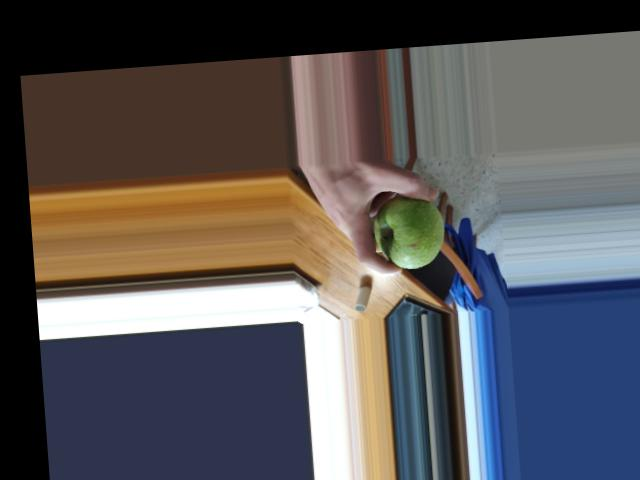apple: (370, 191, 448, 274)
